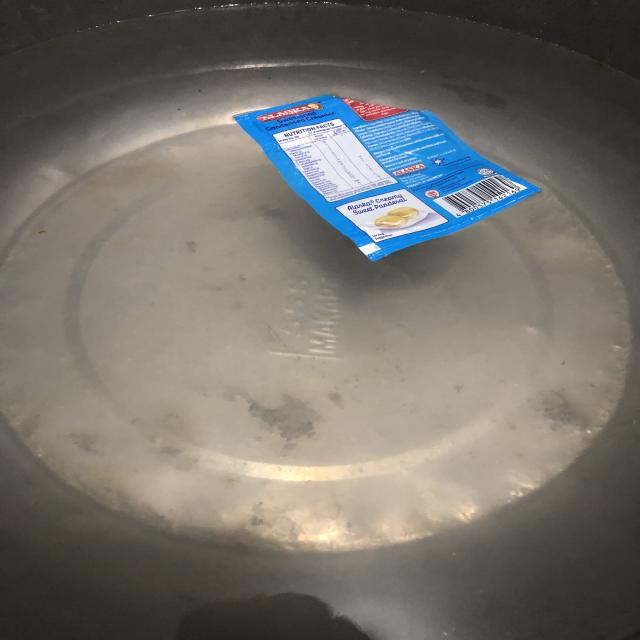Plastic Wrapper: (201, 68, 563, 281)
